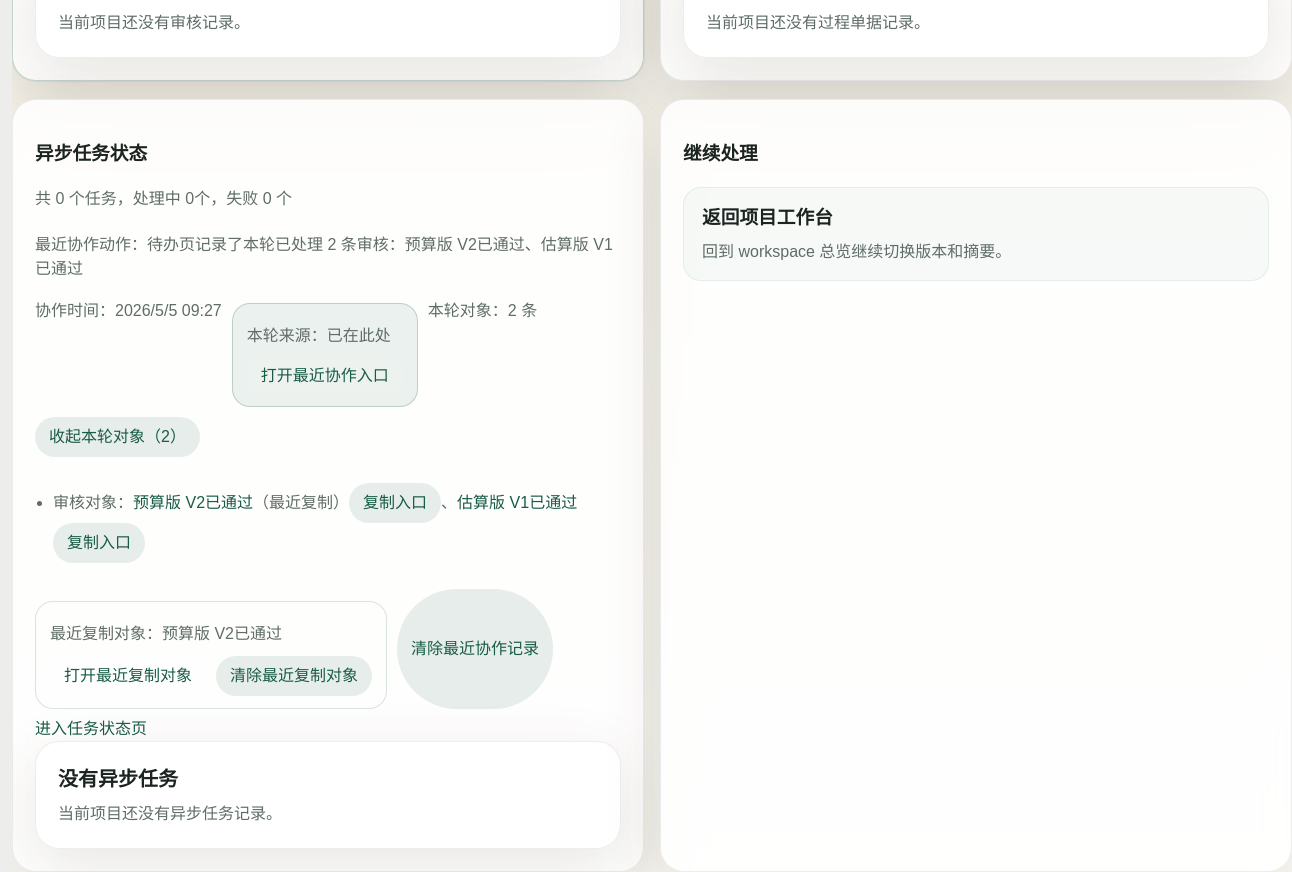
Test: ProjectWorkspaceInboxPage › clears only the highlighted copied batch object while keeping the batch summary
This screenshot has width=1292, height=872.
(page scrolled)
Expected: the button "收起本轮对象（2）" is shown, [35,417,200,457]
Expected: the text "最近复制对象：预算版 V2已通过" is shown, [50,625,282,642]
Click the button "清除最近复制对象": x=294, y=676 [216,656,372,696]
(page scrolled)
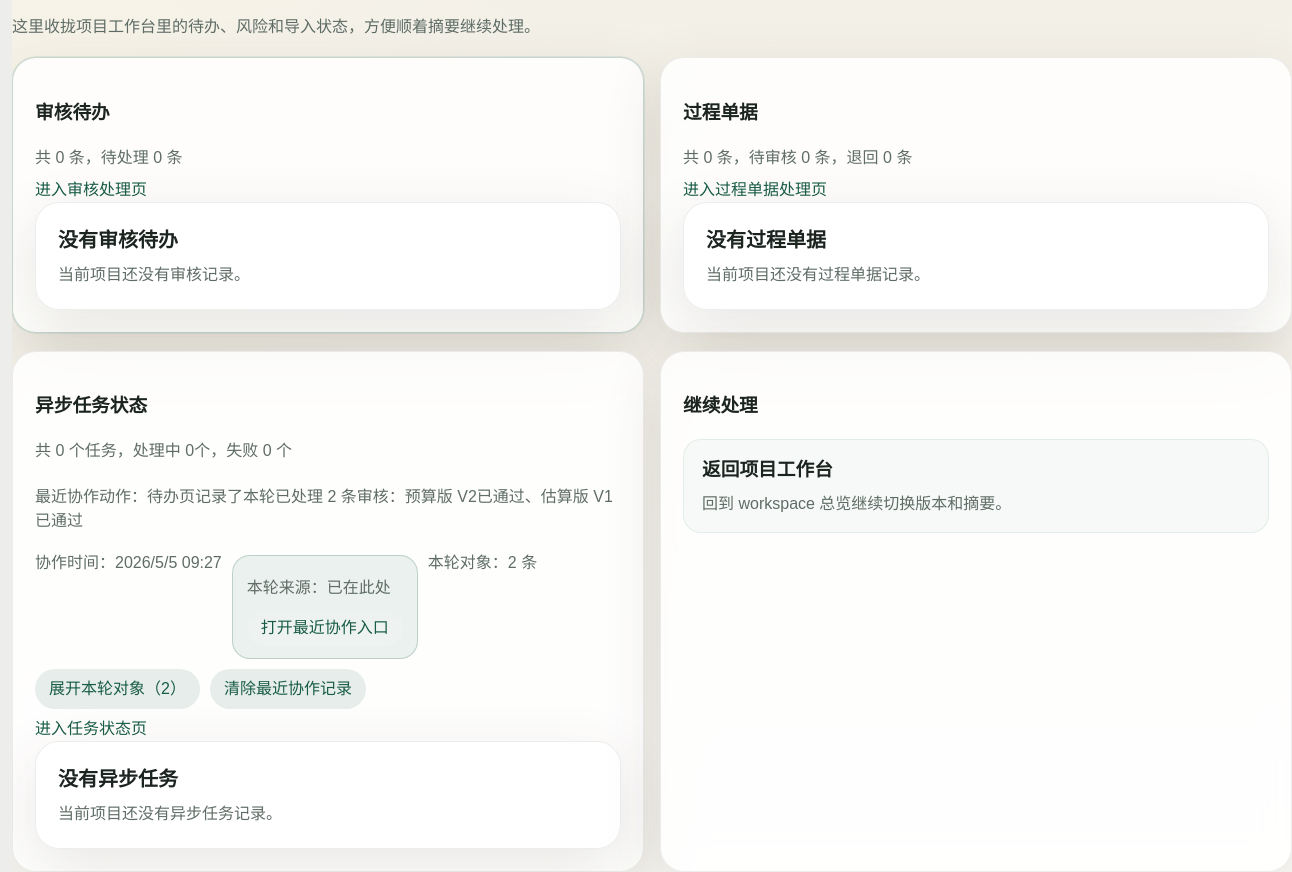
Expected: the text "最近复制对象：预算版 V2已通过" is gone
Expected: the text "（最近复制）" is gone
Expected: the text "审核对象：" is gone
